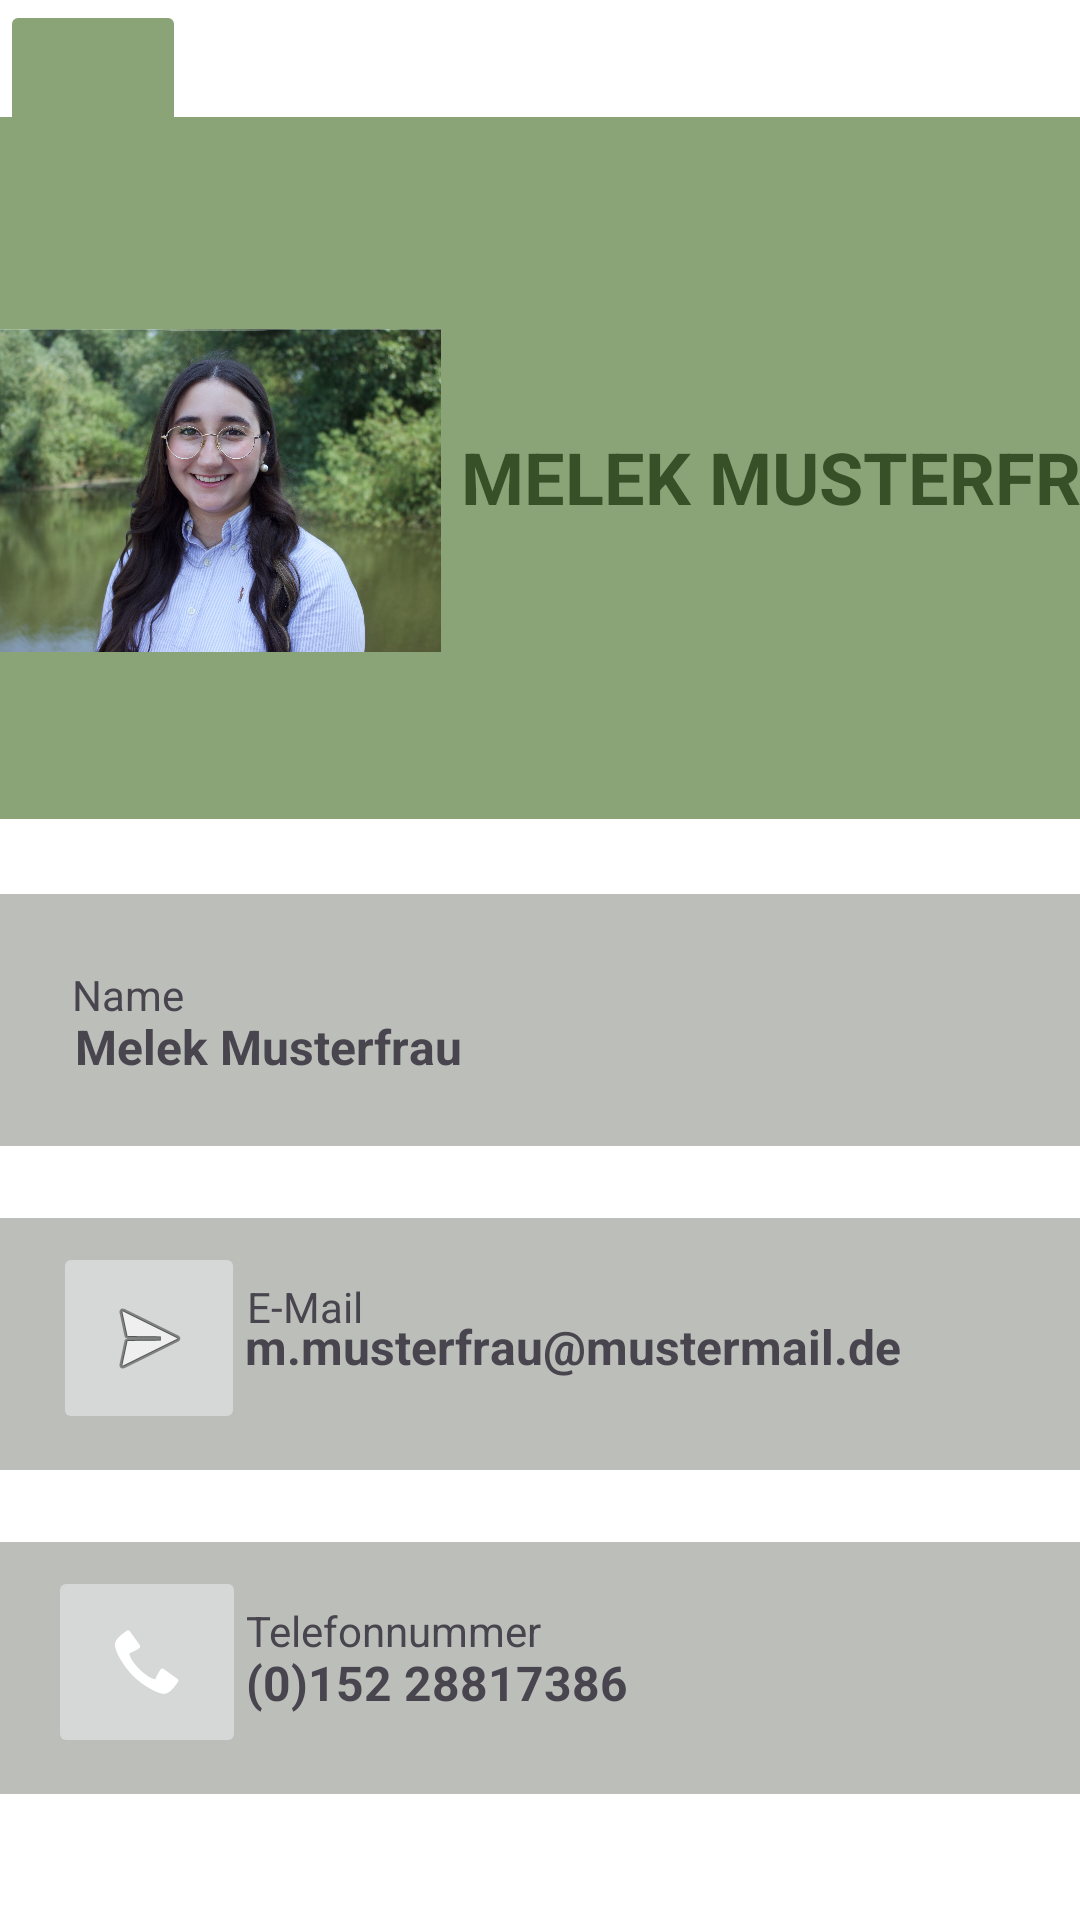

Icons on this 1080px x 1920px Android screen, each with the point to tap as (x,y):
send: (149,1338)
